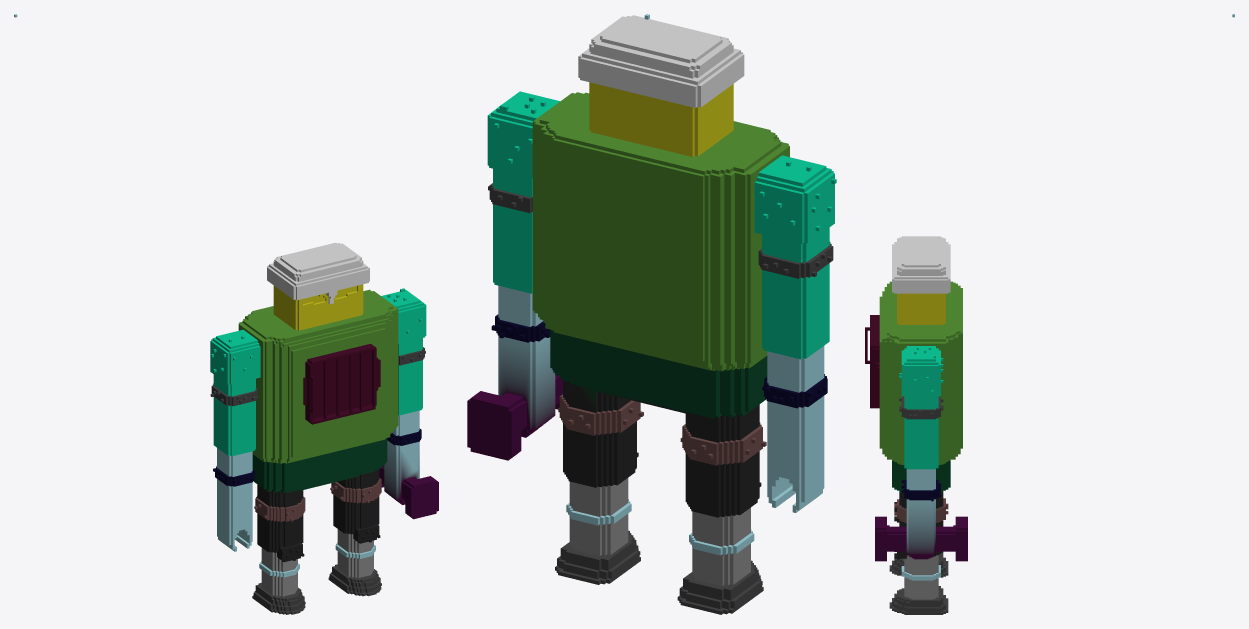
File: SM_ForgeGolem_Whole.fbx
3 renders of one model, left to right at view 1: azimuth 30°, elevation 25°; view 2: azimuth 150°, elevation 25°; view 3: azimuth 270°, elevation 25°, orthographic. The views are drawn at different scales.
Visible parts, largest first — view 1: SM_ForgeGolem_Whole; view 2: SM_ForgeGolem_Whole; view 3: SM_ForgeGolem_Whole.
Part boxes in pixels (left/top/right/bottom): SM_ForgeGolem_Whole: left=14, top=14, right=438, bottom=614; SM_ForgeGolem_Whole: left=467, top=14, right=836, bottom=614; SM_ForgeGolem_Whole: left=865, top=14, right=1234, bottom=614.
Bounding box in the file's own units: 1180 × 2260 × 1510.
